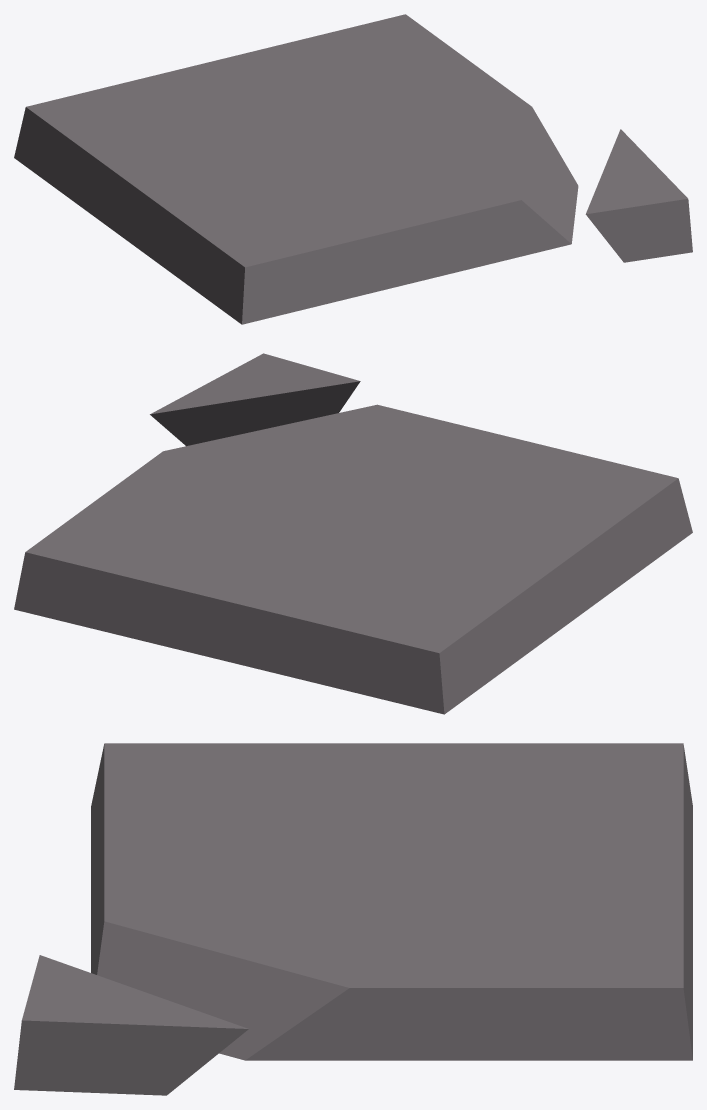
File: Rock_Tile_crk_m_06.fbx
3 renders of one model, top to bottom at view 1: azimuth 30°, elevation 25°; view 2: azimuth 150°, elevation 25°; view 3: azimuth 270°, elevation 25°, orthographic. The views are drawn at different scales.
Parts seen in each view (by area): view 1: Rock_Tile_crk_m_06; view 2: Rock_Tile_crk_m_06; view 3: Rock_Tile_crk_m_06.
Boxes of the visible parts, <box> form: Rock_Tile_crk_m_06: <box>14,14,692,324</box>; Rock_Tile_crk_m_06: <box>14,353,692,714</box>; Rock_Tile_crk_m_06: <box>14,743,692,1095</box>.
Size of the model in its own units: 44.42 by 5.88 by 45.13.
